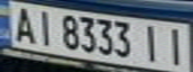3: (112, 18, 139, 60), (93, 17, 115, 56), (75, 15, 96, 54)
8: (57, 11, 81, 52)
A: (6, 3, 39, 44)
I: (160, 25, 193, 66), (139, 21, 166, 64), (30, 7, 57, 47)
